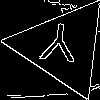Y: (38, 22, 79, 71)
